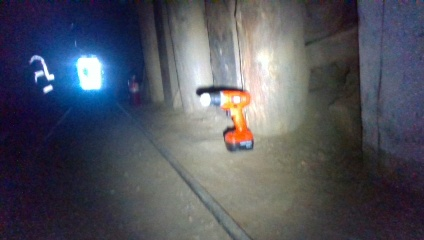drill: (198, 89, 256, 151)
fire_extinguisher: (124, 73, 141, 107)
manikin: (28, 36, 114, 110)
